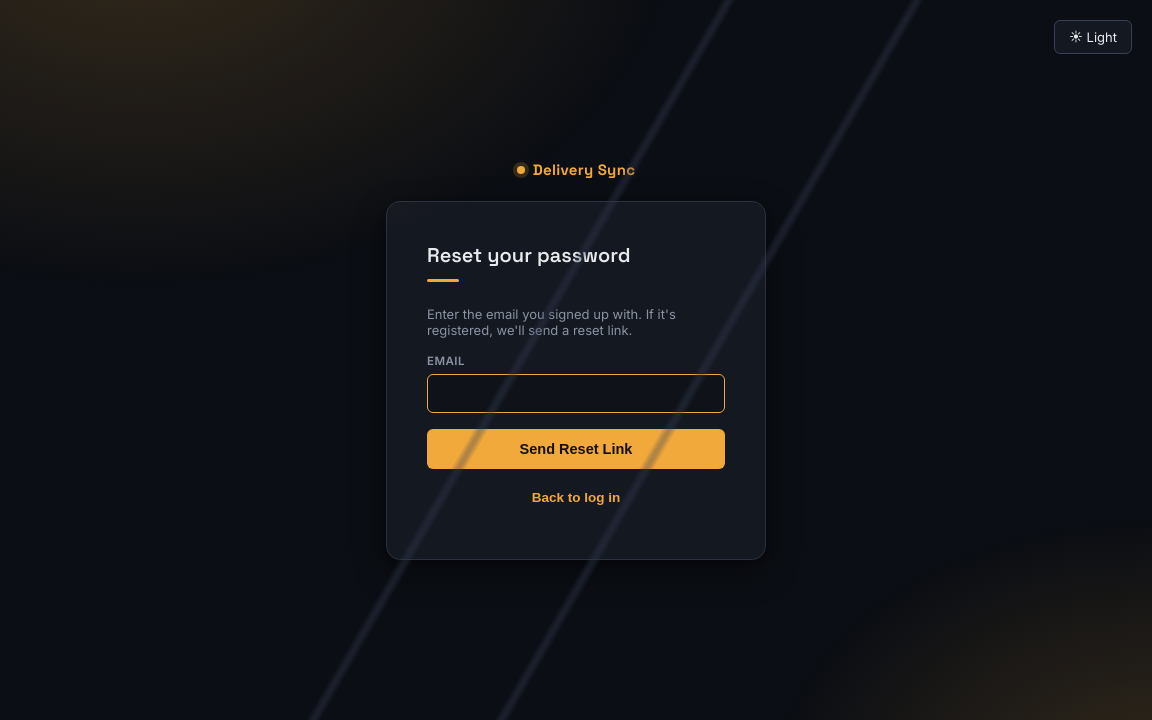
ForgotPasswordPage › exposes the email field to assistive tech via a properly associated label
The image size is (1152, 720).
In the field labelled "Email": (576, 394) [427,374,725,413], type "agent@example.com"
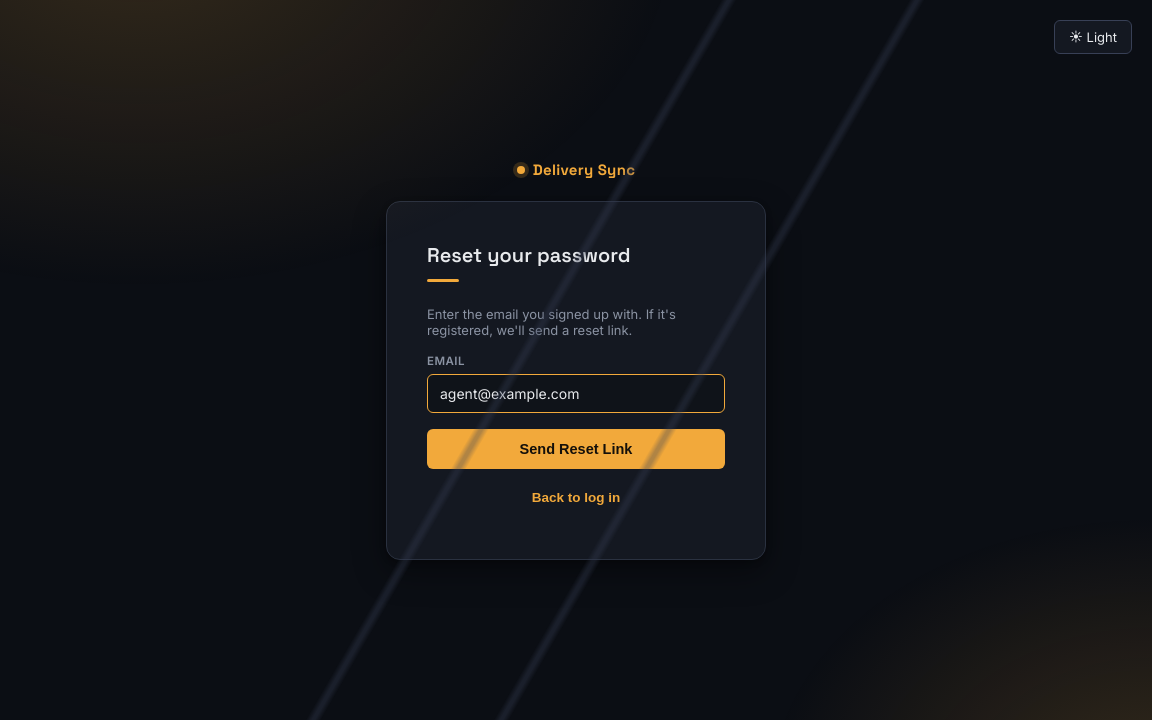
Click the button "Send Reset Link": (576, 449) [427,429,725,469]
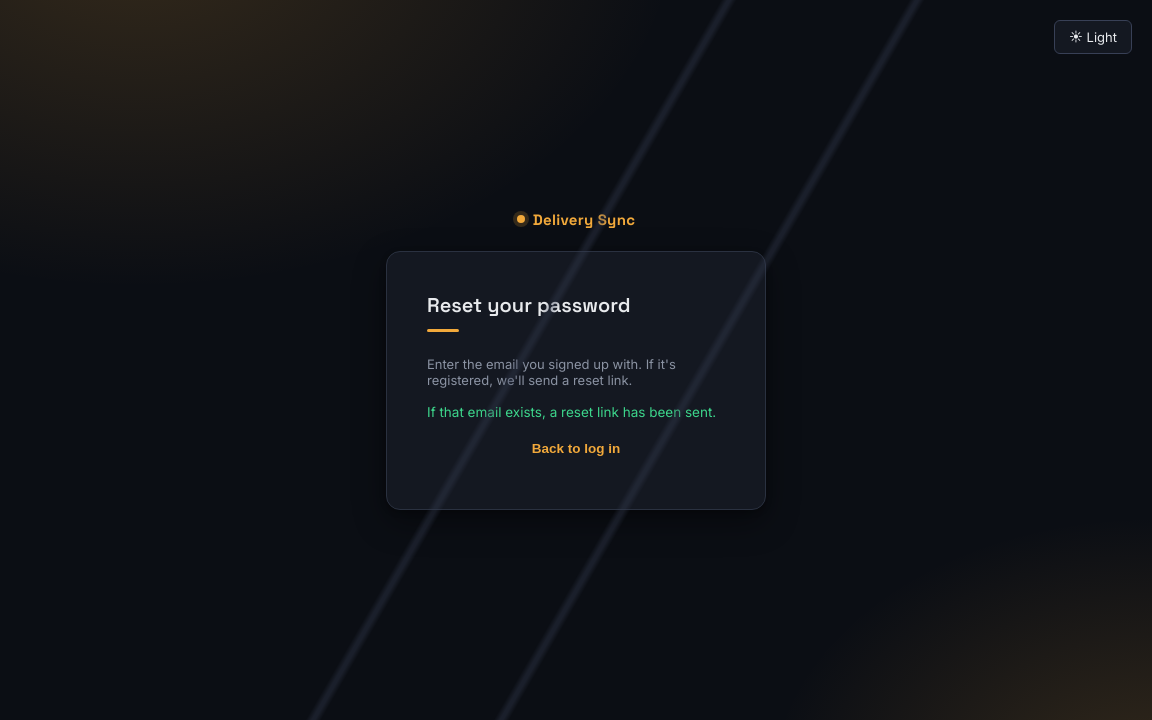
Expected: the text "If that email exists, a reset link has been sent." is shown, [427,404,725,420]
